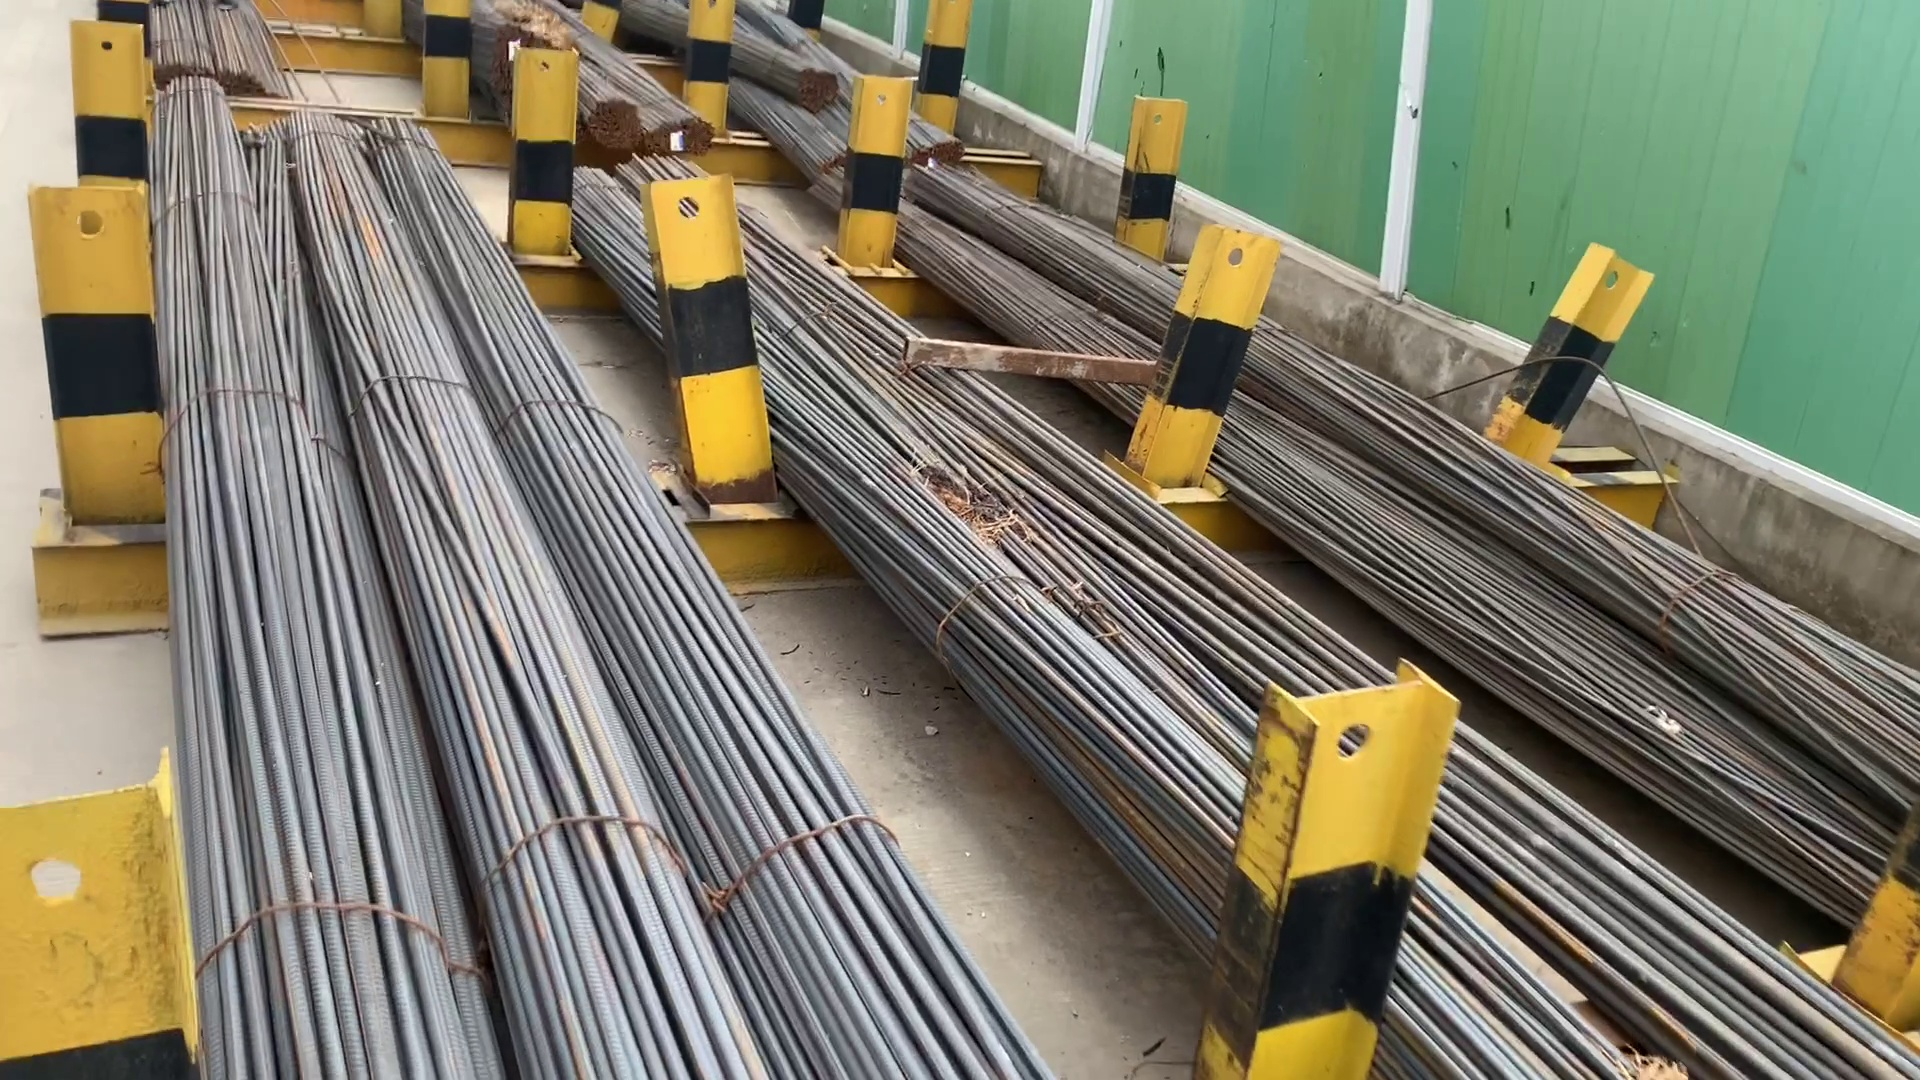rebar: (645, 112, 715, 160), (579, 94, 638, 149), (793, 62, 839, 107), (914, 129, 967, 165), (154, 51, 219, 80)
